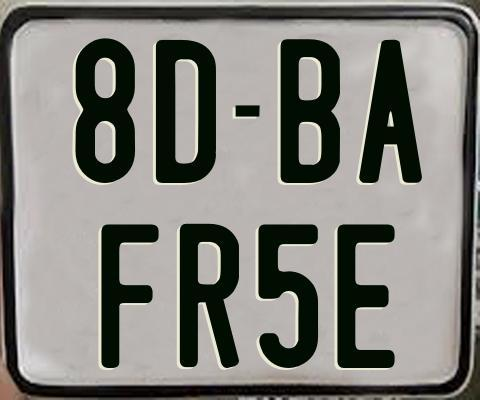5: (258, 223, 323, 370)
8: (73, 38, 134, 189)
A: (358, 37, 425, 185)
B: (280, 37, 341, 182)
D: (153, 39, 214, 184)
E: (337, 221, 399, 370)
F: (100, 224, 164, 373)
R: (179, 221, 238, 370)
